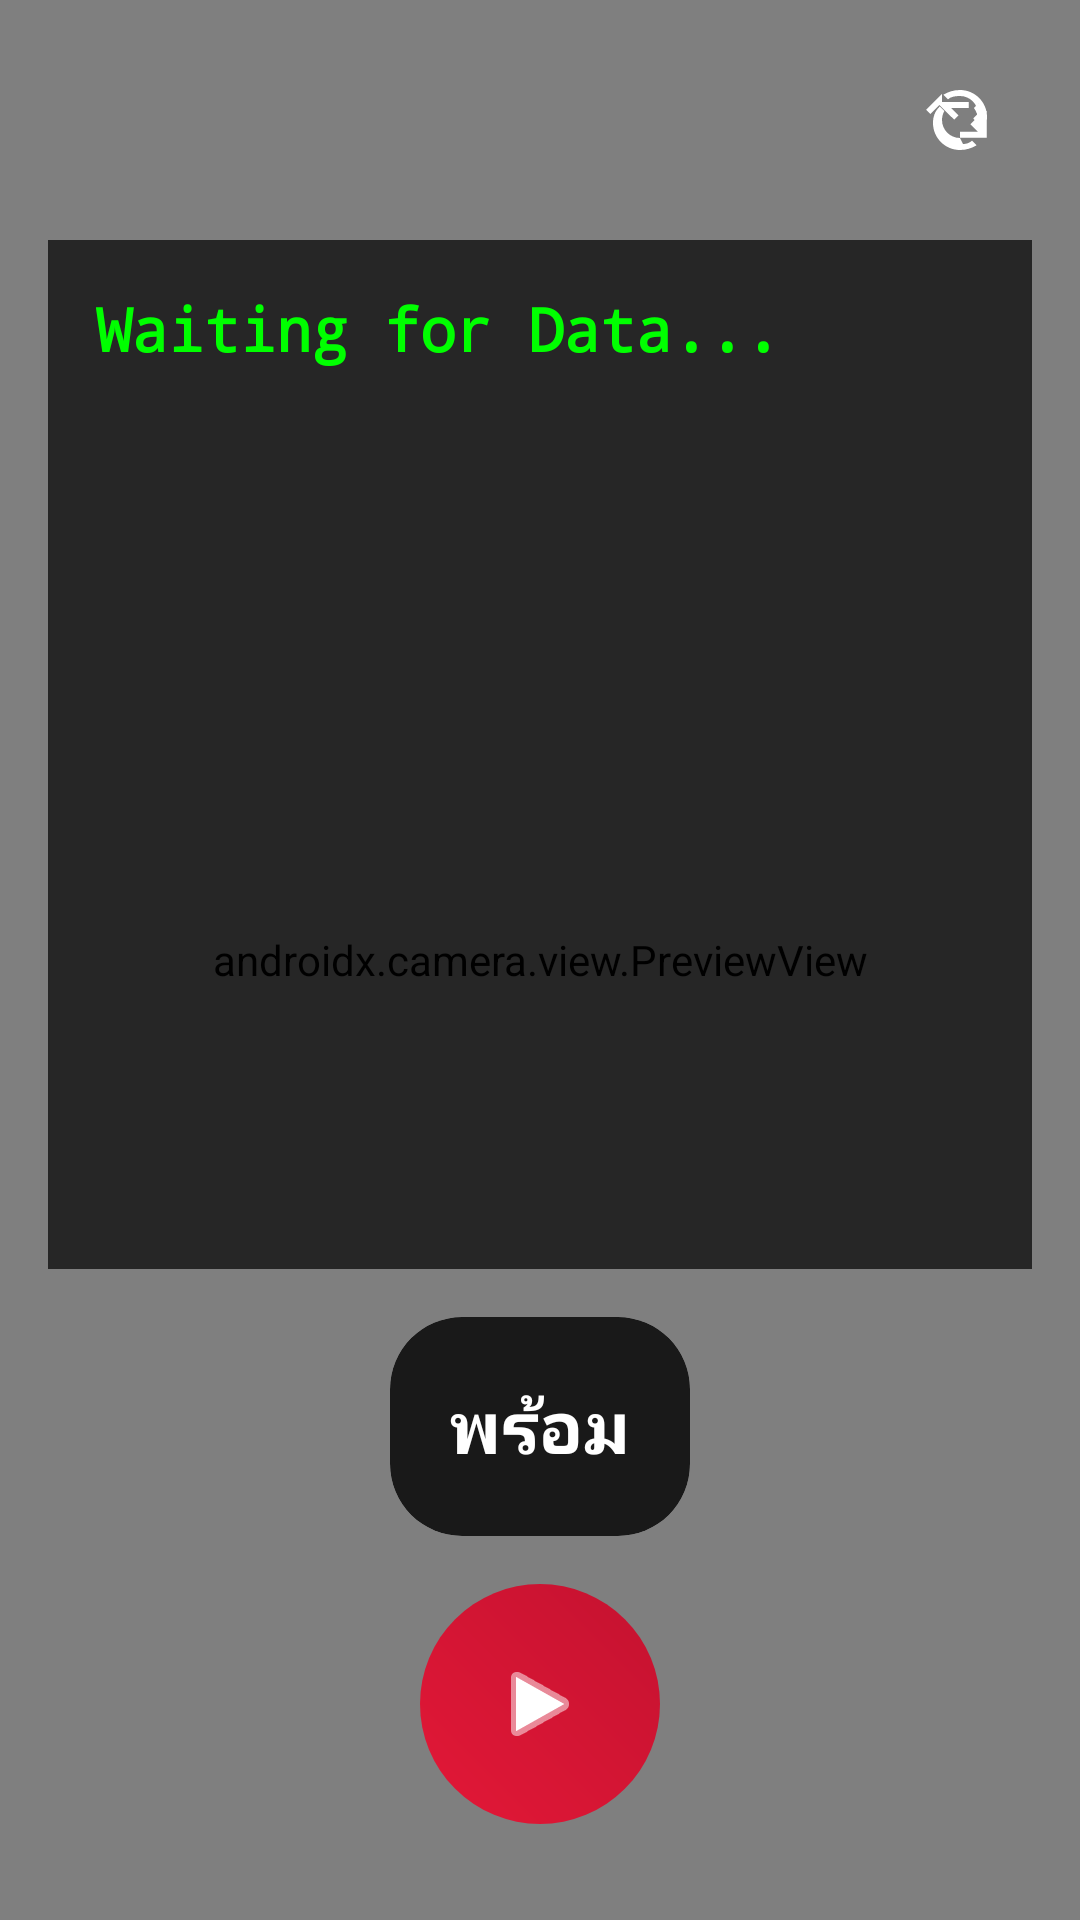

Screen size 1080px×1920px. Icon name, then its box in pixels as bbox=[x1, y1, x2, y2]:
cameraswitch: bbox=[926, 90, 987, 150]
play: bbox=[511, 1672, 569, 1736]
